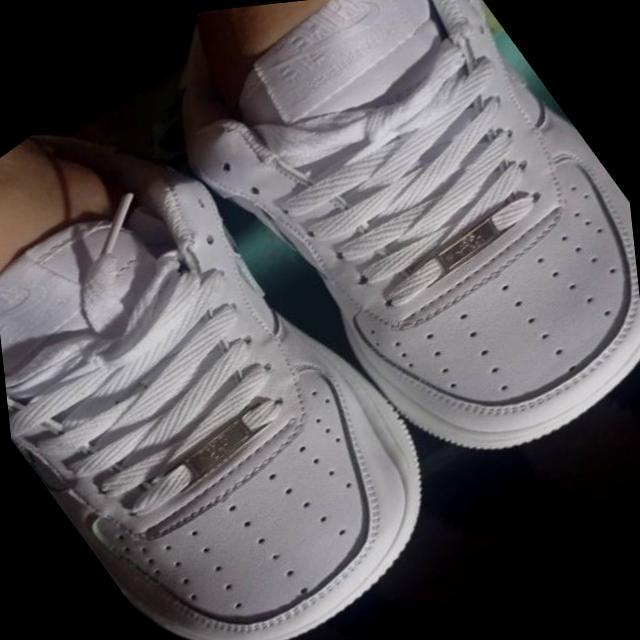nike_fake_airforce: (0, 22, 492, 640), (111, 0, 640, 546)
